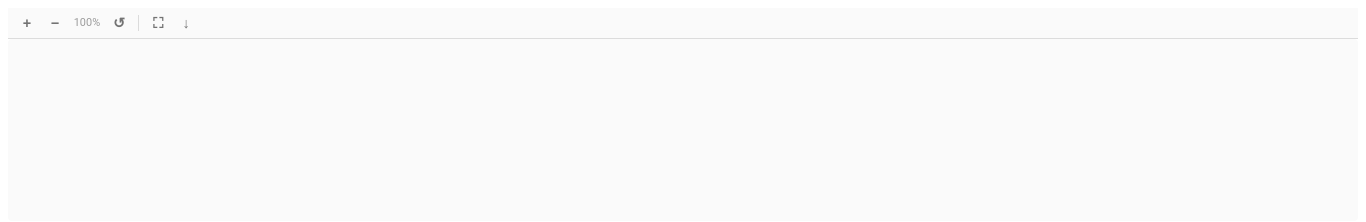
MermaidDiagramViewer › control bar › resets zoom to 100% when reset button is clicked after zooming in
Click the button titled "Zoom in" at [27, 23], box [14,10,40,36]
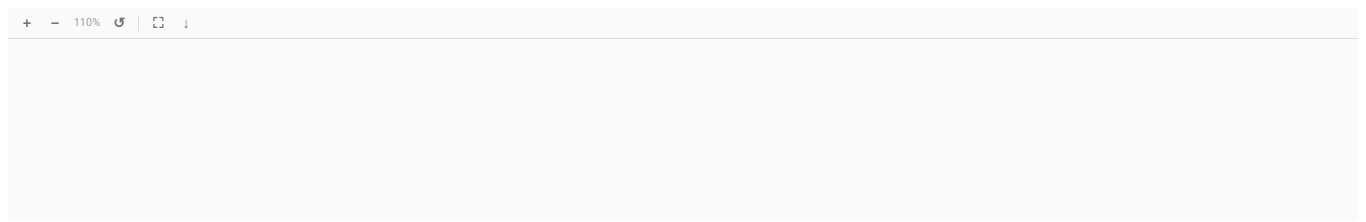
Click the button titled "Zoom in" at [27, 23], box [14,10,40,36]
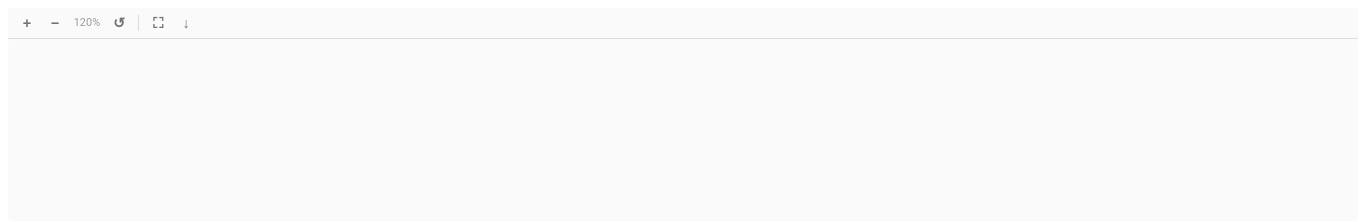
Expected: the text "120%" is shown, [74,16,100,29]
Click the button titled "Reset view" at [119, 23], box [106,10,132,36]
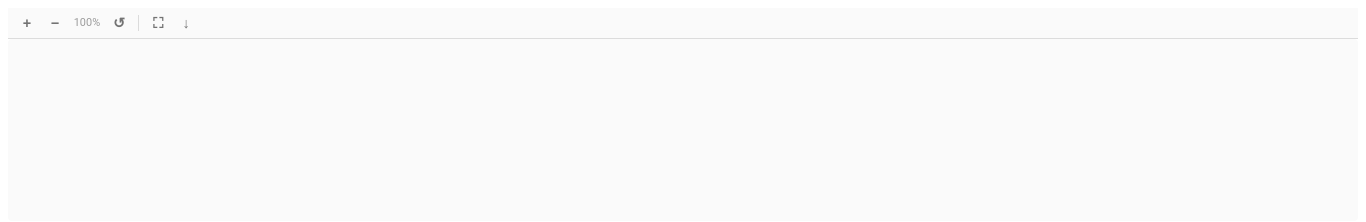
Expected: the text "100%" is shown, [74,16,100,29]
